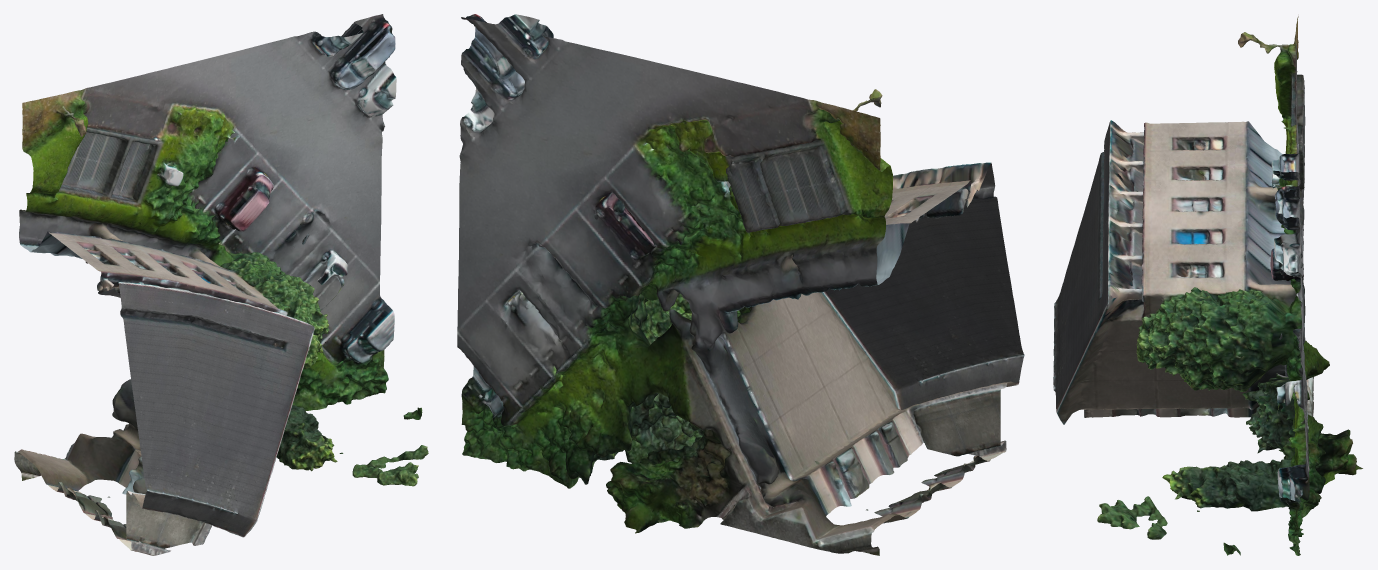
Rendered from Tile_+009_+027.fbx.
3 renders of one model, left to right at view 1: azimuth 30°, elevation 25°; view 2: azimuth 150°, elevation 25°; view 3: azimuth 270°, elevation 25°, orthographic. The views are drawn at different scales.
Parts seen in each view (by area): view 1: DefaultName; view 2: DefaultName; view 3: DefaultName.
Boxes of the visible parts, left/top/right/bottom form: DefaultName: left=14, top=14, right=428, bottom=555; DefaultName: left=457, top=14, right=1024, bottom=555; DefaultName: left=1053, top=16, right=1362, bottom=555.
Size of the model in its own units: 22.54 by 22.54 by 17.15.
